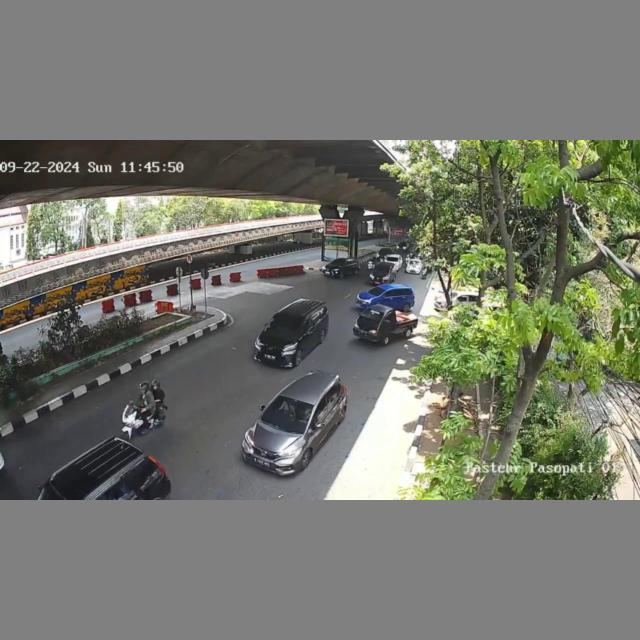windshield: (262, 393, 316, 435), (263, 314, 301, 339), (359, 307, 384, 324), (367, 286, 386, 296)
